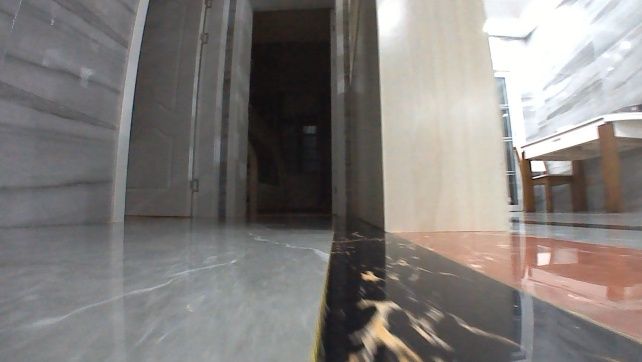door_anno: (121, 0, 219, 218)
